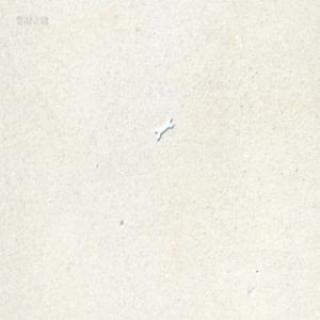Wrenchtrack_idkeyframe: (153, 116, 173, 139)
